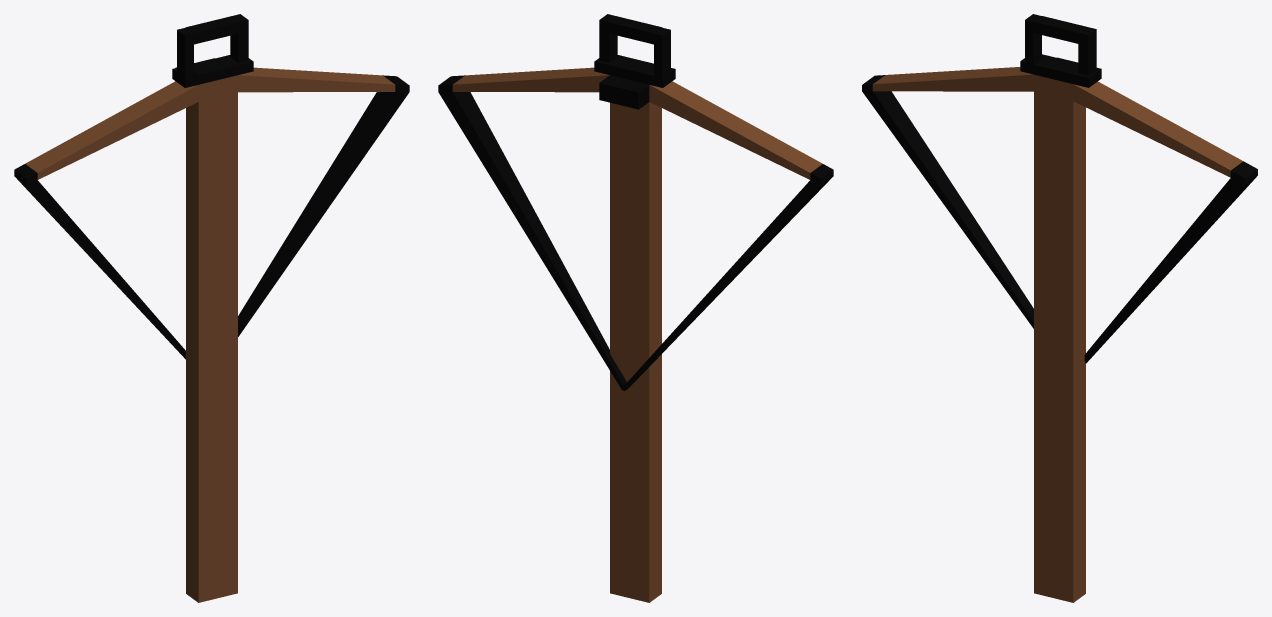
File: Crossbow.fbx
3 renders of one model, left to right at view 1: azimuth 30°, elevation 25°; view 2: azimuth 150°, elevation 25°; view 3: azimuth 330°, elevation 25°, orthographic.
Visible parts, largest first — view 1: Crossbow; view 2: Crossbow; view 3: Crossbow.
Boxes of the visible parts, x1=… form: Crossbow: x1=14, y1=14, x2=409, y2=602; Crossbow: x1=438, y1=14, x2=833, y2=602; Crossbow: x1=862, y1=14, x2=1257, y2=602.
Size of the model in its own units: 578 by 821 by 61.01.
